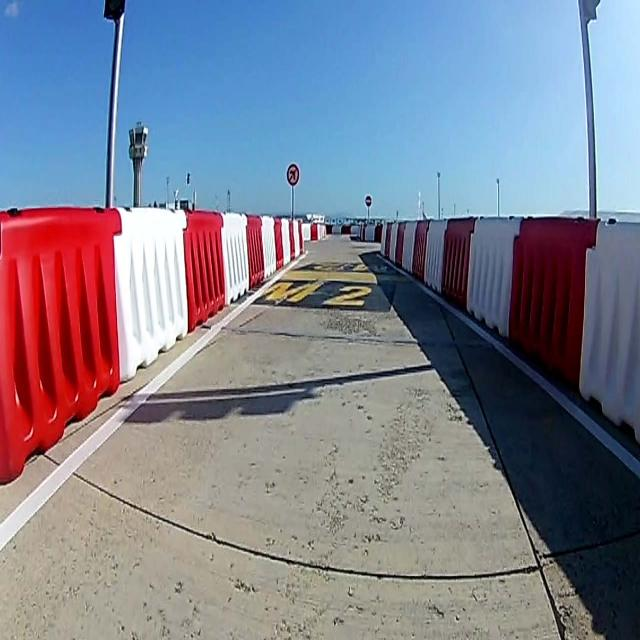soladonulmez: (286, 164, 300, 185)
